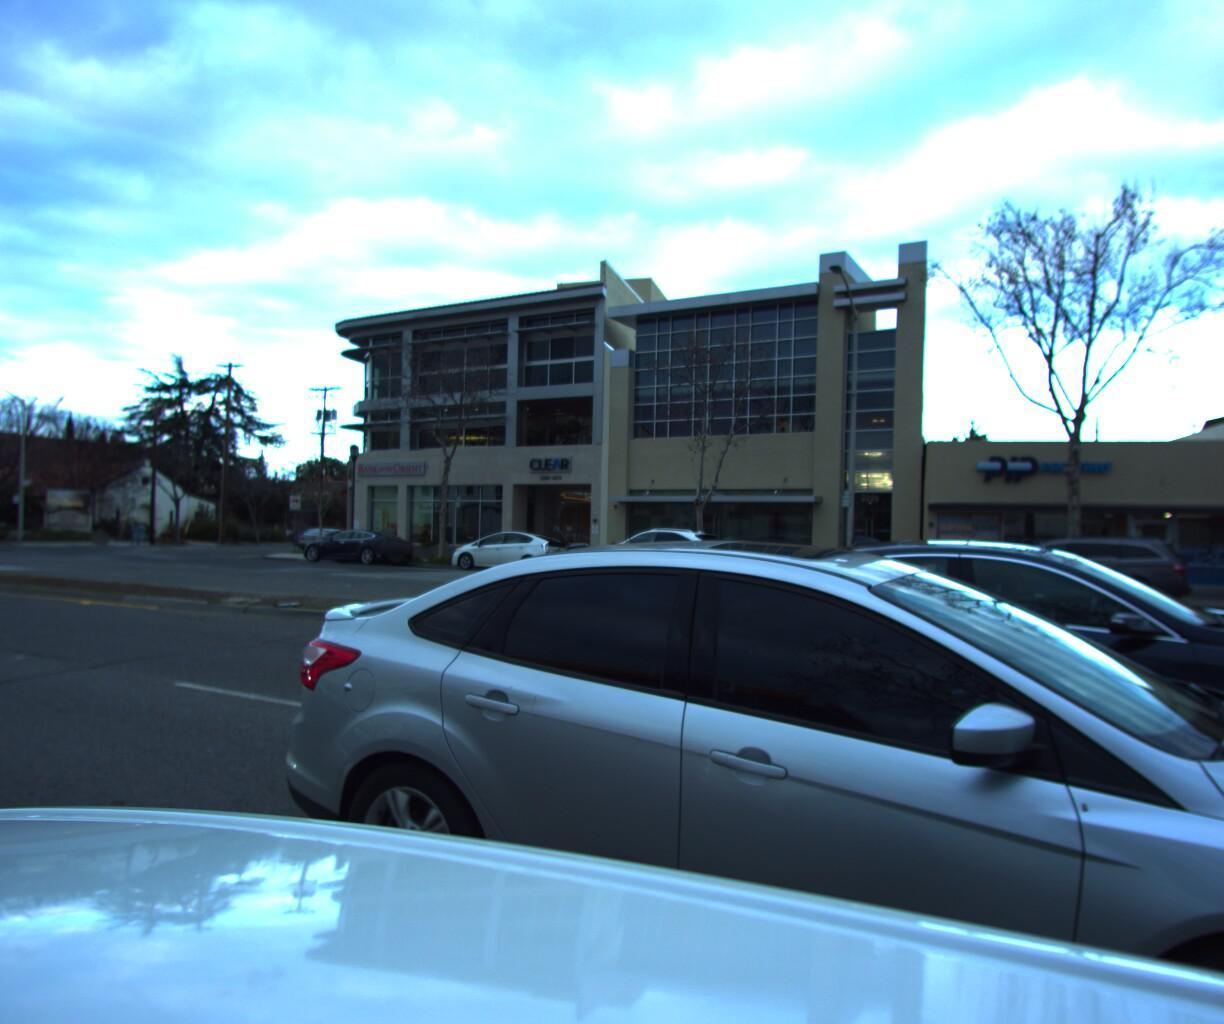car: (233, 531, 1224, 1024), (648, 536, 1224, 879), (956, 526, 1194, 611), (577, 519, 740, 583), (437, 522, 574, 574), (292, 522, 416, 566), (289, 521, 368, 551)
